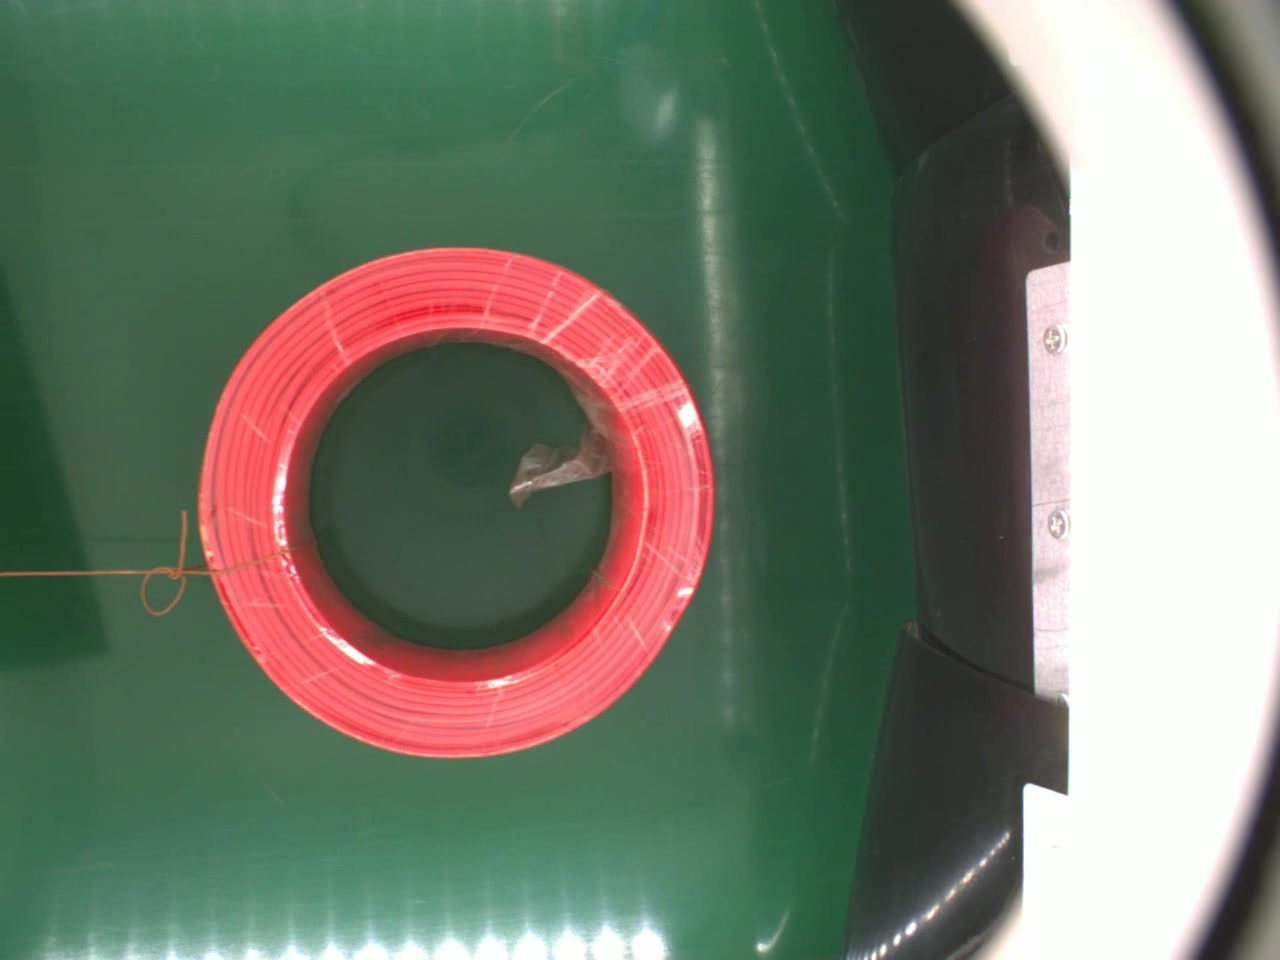red: (195, 243, 716, 756)
